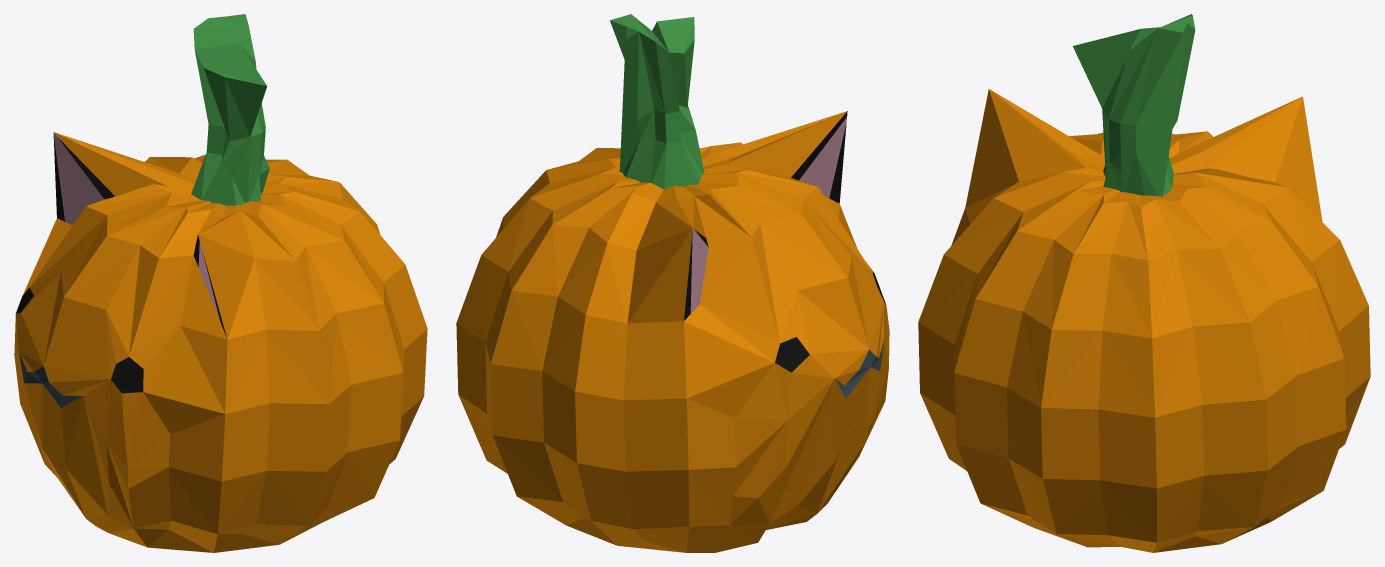
File: GATUTU.gltf
The picture shows the model from 3 angles, left to right: view 1: azimuth 30°, elevation 25°; view 2: azimuth 150°, elevation 25°; view 3: azimuth 270°, elevation 25°; orthographic projection. The views are drawn at different scales.
Visible parts, largest first — view 1: node_MeshObject-1783581696-PolyPaper13; view 2: node_MeshObject-1783581696-PolyPaper13; view 3: node_MeshObject-1783581696-PolyPaper13.
Boxes of the visible parts, x1=… form: node_MeshObject-1783581696-PolyPaper13: x1=14, y1=14, x2=427, y2=552; node_MeshObject-1783581696-PolyPaper13: x1=456, y1=14, x2=889, y2=552; node_MeshObject-1783581696-PolyPaper13: x1=918, y1=14, x2=1370, y2=552.
Bounding box in the file's own units: 0.3452 × 0.4302 × 0.3469.
